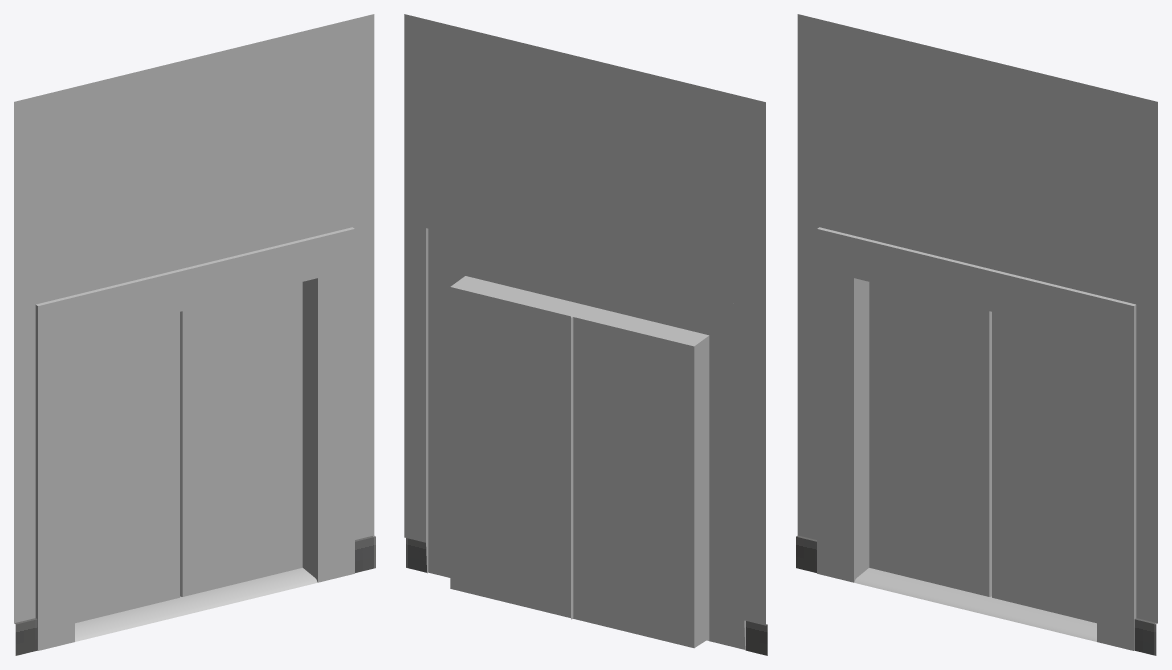
Rendered from mesh_wall_06.FBX.
The picture shows the model from 3 angles, left to right: view 1: azimuth 30°, elevation 25°; view 2: azimuth 150°, elevation 25°; view 3: azimuth 330°, elevation 25°; orthographic projection.
Visible parts, largest first — view 1: Object150; view 2: Object150; view 3: Object150.
Boxes of the visible parts, box(x1,y1,x2,y2) form: Object150: box(14, 14, 375, 655); Object150: box(404, 14, 767, 655); Object150: box(796, 14, 1157, 655).
Bounding box in the file's own units: 3 × 4.4 × 0.2377.
